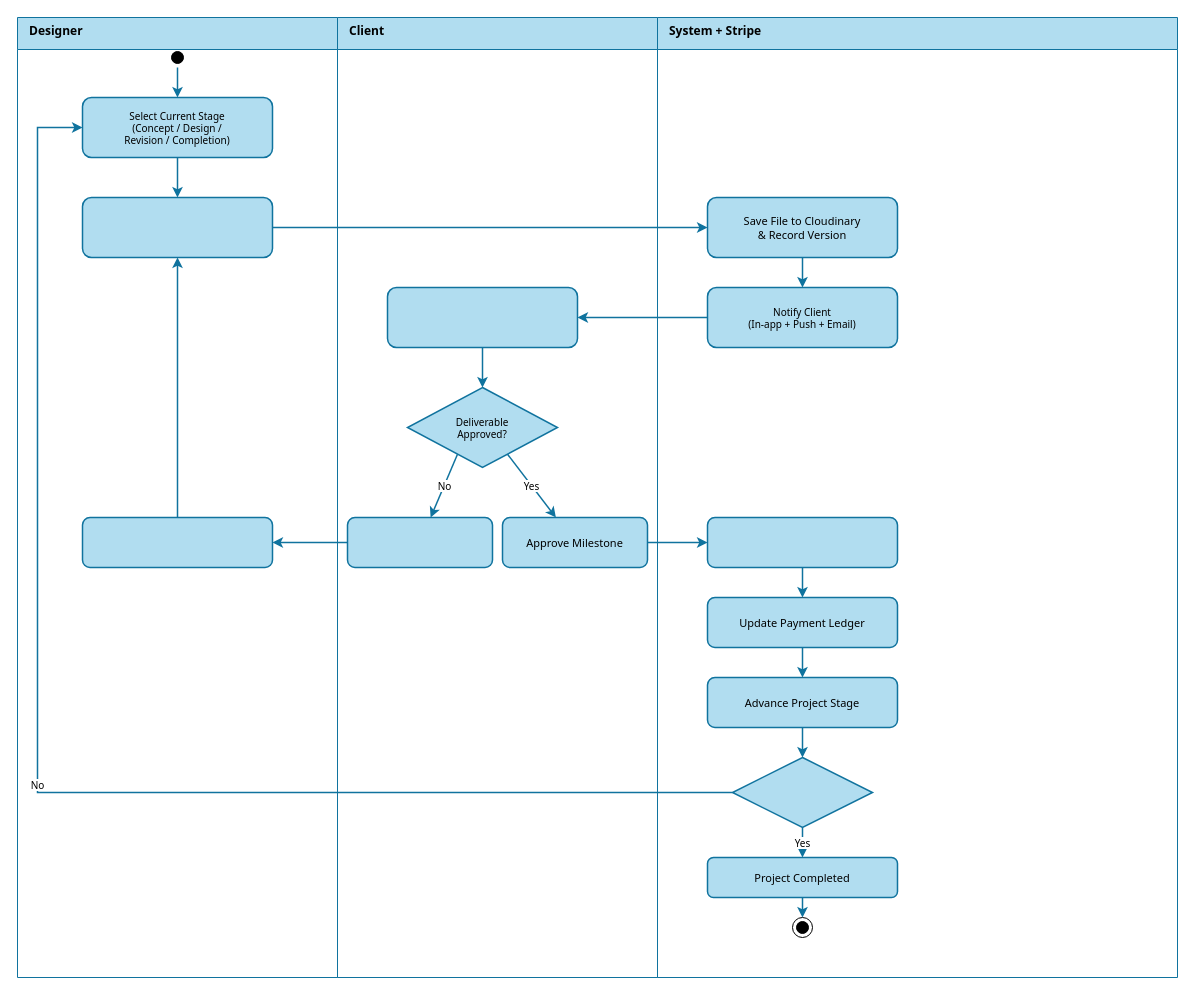
Image size: 1195x995. Some labels were removed from this diagram. The shapes that lost their labels are listed below. From the top down, each one's centre as x and y in pixels, then its label:
(x=177, y=227): Upload Deliverable (with version tracking)
(x=482, y=317): Review Deliverable View + Download
(x=177, y=542): Revise & Re-upload
(x=419, y=542): Reject with Feedback
(x=802, y=542): Process Milestone Payment via Stripe
(x=802, y=792): Last Stage?
